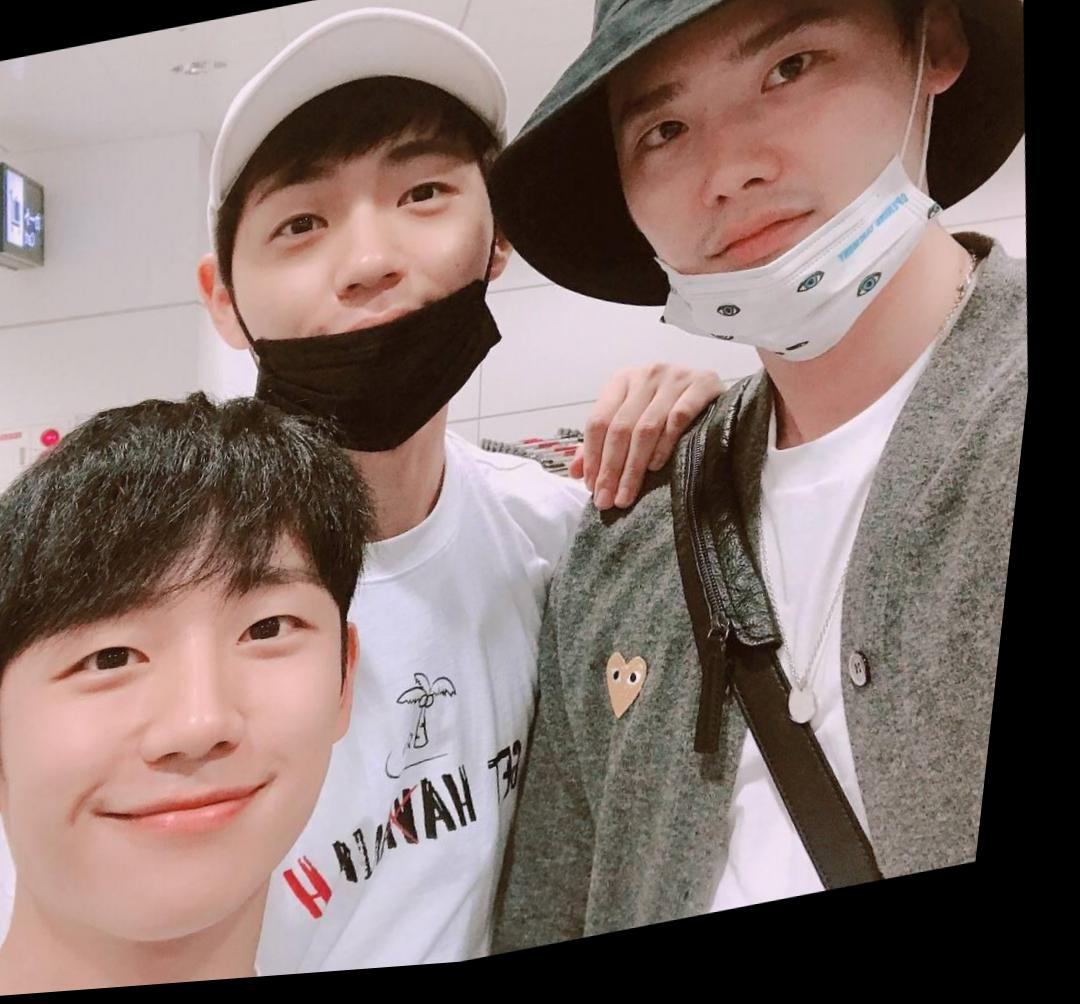NONE: (1, 563, 390, 968)
WRONG: (585, 24, 974, 375), (221, 124, 543, 437)
